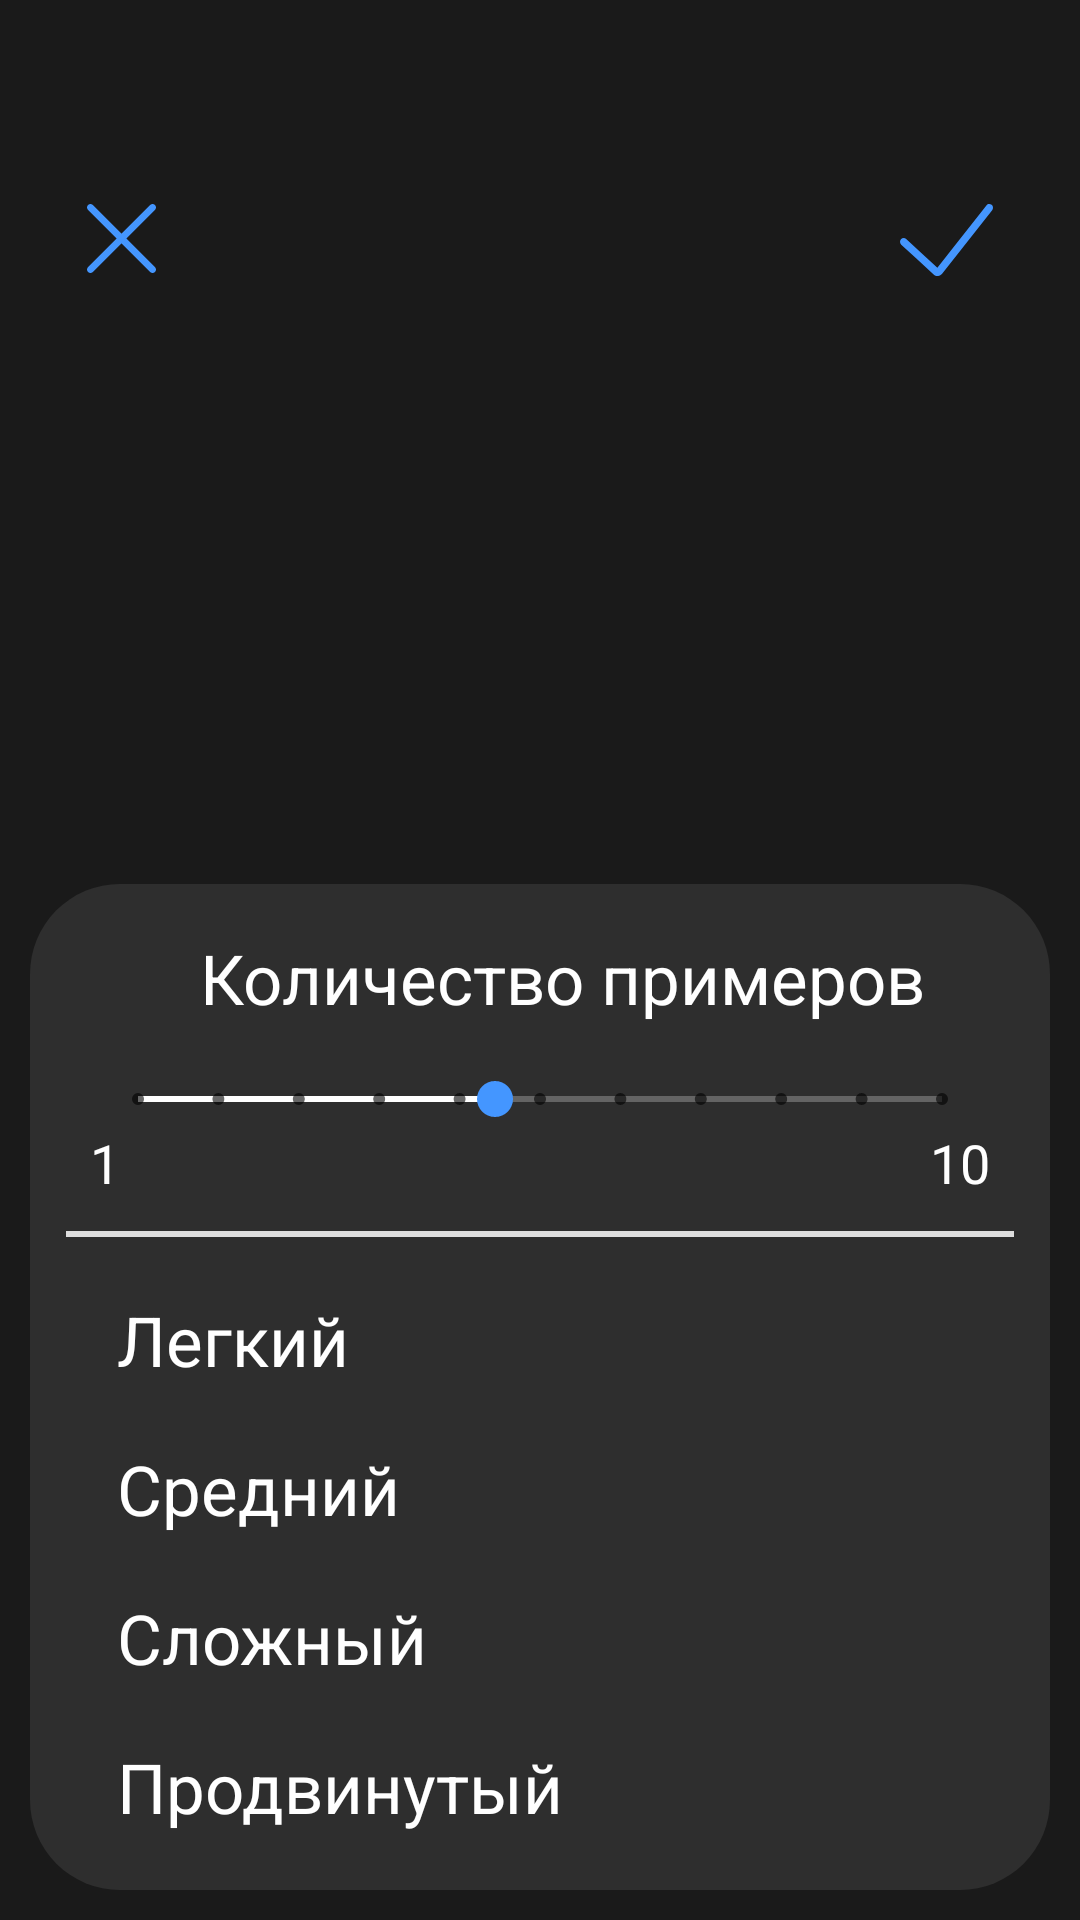

Icons on this 1080x1920 Android screen, each with the point to tap as (x=x, y=y):
отмена: (x=121, y=238)
сохранить: (x=946, y=240)
